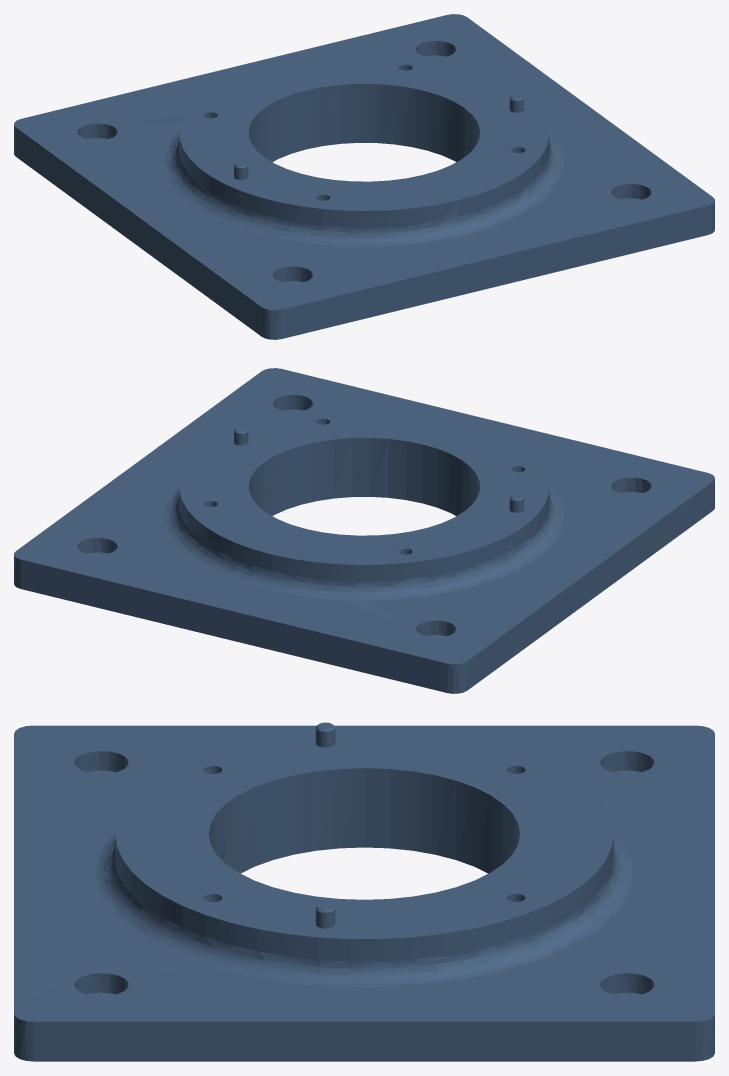
File: DigitalTwin_AQlanLabTableRemaster_ST-RB-001-0004.fbx
The picture shows the model from 3 angles, top to bottom: view 1: azimuth 30°, elevation 25°; view 2: azimuth 150°, elevation 25°; view 3: azimuth 270°, elevation 25°; orthographic projection. The views are drawn at different scales.
Visible parts, largest first — view 1: DigitalTwin_AQlanLabTableRemaster_ST-RB-001-0004_CPY; view 2: DigitalTwin_AQlanLabTableRemaster_ST-RB-001-0004_CPY; view 3: DigitalTwin_AQlanLabTableRemaster_ST-RB-001-0004_CPY.
Part boxes in pixels (bbox=[...]): DigitalTwin_AQlanLabTableRemaster_ST-RB-001-0004_CPY: bbox=[14, 14, 714, 339]; DigitalTwin_AQlanLabTableRemaster_ST-RB-001-0004_CPY: bbox=[14, 368, 714, 693]; DigitalTwin_AQlanLabTableRemaster_ST-RB-001-0004_CPY: bbox=[14, 722, 714, 1061].
Bounding box in the file's own units: 62.08 × 9.48 × 62.08.
